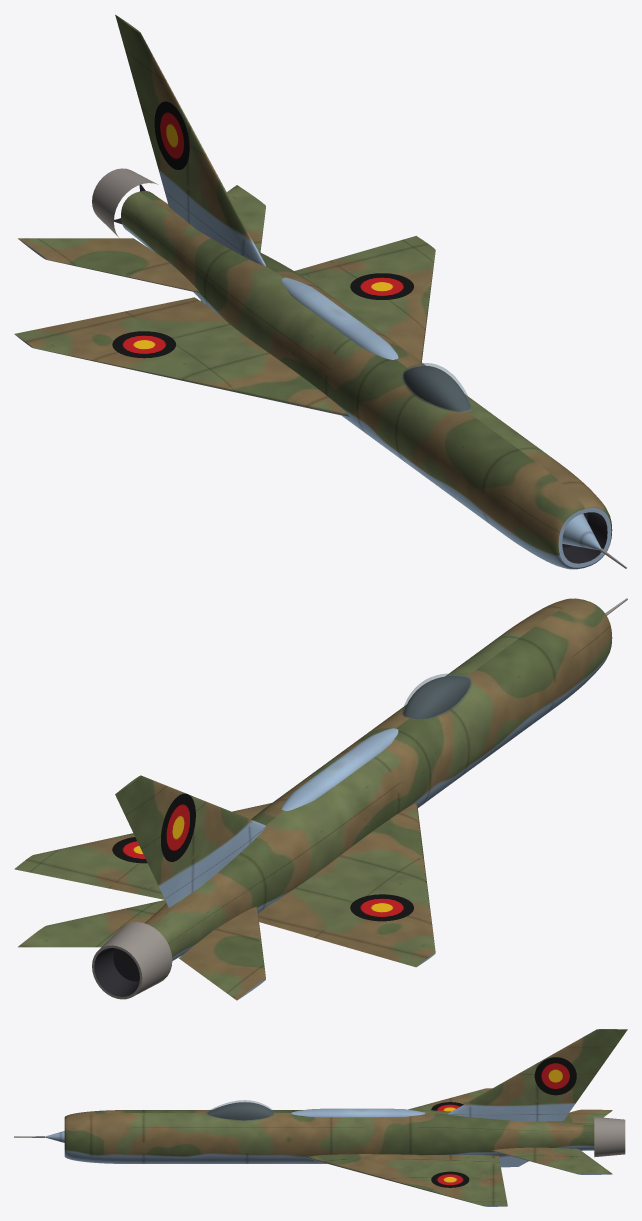
File: 21_EastGer_MiG21MF.glb
The picture shows the model from 3 angles, top to bottom: view 1: azimuth 30°, elevation 25°; view 2: azimuth 150°, elevation 25°; view 3: azimuth 270°, elevation 25°; orthographic projection. The views are drawn at different scales.
Parts seen in each view (by area): view 1: Fuselage, Wing0_R, Fin2, Wing0_L, Htail1_R, Spine, Canopy, Cockpit, Nozzle, Decal_Fin_a, Intake, Decal_Wing_U_L (+3 smaller); view 2: Fuselage, Wing0_R, Fin2, Wing0_L, Htail1_R, Nozzle, Htail1_L, Spine, Canopy, Cockpit, Decal_Fin_a, Decal_Wing_U_R (+1 smaller); view 3: Fuselage, Fin2, Wing0_L, Htail1_L, Decal_Fin_b, Nozzle, Spine, Canopy, Cockpit, Htail1_R, Decal_Wing_U_L, Wing0_R.
Boxes of the visible parts, x1,y1,x2,y2 form: Fuselage: (121,191,612,569); Wing0_R: (14,297,349,416); Fin2: (115,14,265,266); Wing0_L: (294,236,435,362); Htail1_R: (18,238,199,292); Spine: (282,277,398,359); Canopy: (402,363,472,412); Cockpit: (403,366,470,411); Nozzle: (92,168,158,237); Decal_Fin_a: (154,101,189,169); Intake: (558,508,611,567); Decal_Wing_U_L: (350,273,413,299); Fuselage: (145,598,612,960); Wing0_R: (258,803,435,967); Fin2: (115,775,265,907); Wing0_L: (14,803,271,899); Htail1_R: (179,906,265,1000); Nozzle: (92,922,172,999); Htail1_L: (18,900,166,947); Spine: (282,728,398,810); Canopy: (402,674,472,719); Cockpit: (403,676,470,719); Decal_Fin_a: (161,793,195,861); Decal_Wing_U_R: (350,894,413,921); Fuselage: (64,1110,594,1163); Fin2: (447,1029,627,1121); Wing0_L: (306,1154,507,1206); Htail1_L: (492,1147,612,1174); Decal_Fin_b: (534,1057,576,1095); Nozzle: (594,1117,625,1157); Spine: (291,1108,424,1117); Canopy: (205,1100,274,1120); Cockpit: (207,1102,273,1120); Htail1_R: (554,1109,612,1123); Decal_Wing_U_L: (431,1171,469,1187); Wing0_R: (408,1088,491,1110).
Bounding box in the file's own units: 7.15 × 3.9 × 15.76.
6 materials, 2 textured.
